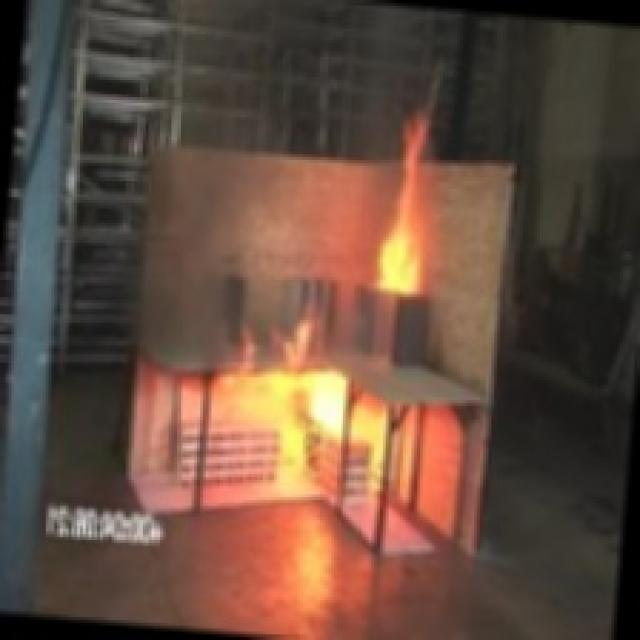fire: (333, 91, 467, 326), (247, 336, 382, 504)
